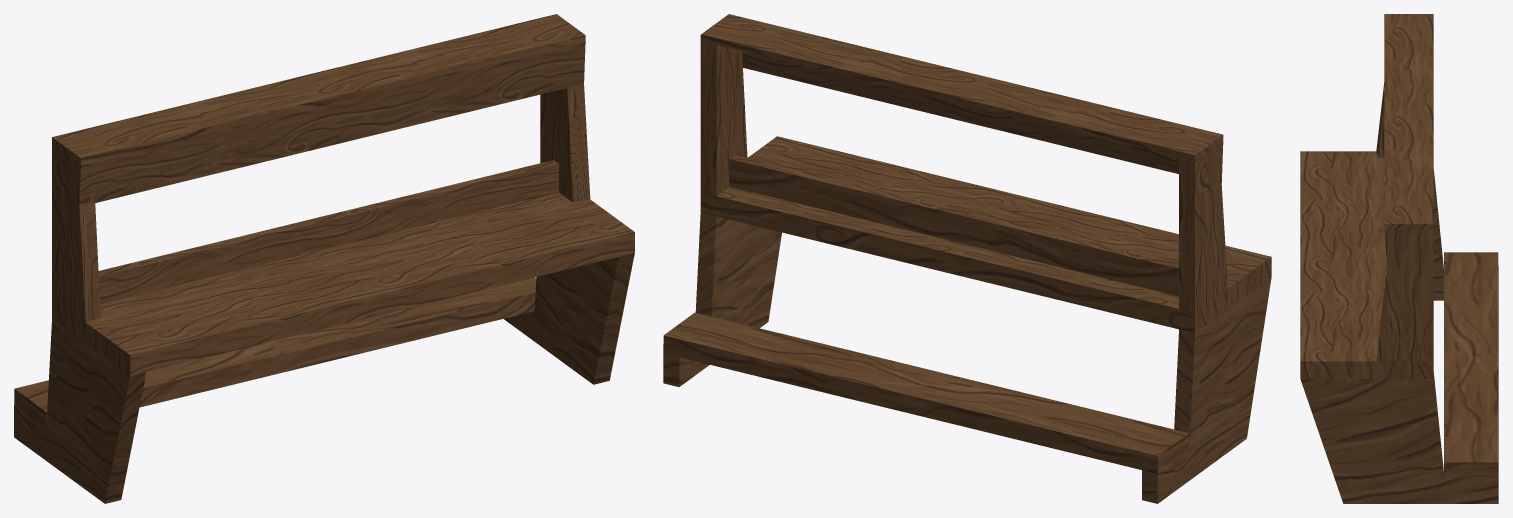
The model's file is ruraltown_chapelbench.fbx.
3 renders of one model, left to right at view 1: azimuth 30°, elevation 25°; view 2: azimuth 150°, elevation 25°; view 3: azimuth 270°, elevation 25°, orthographic. The views are drawn at different scales.
Parts seen in each view (by area): view 1: ruraltown_chapelbench; view 2: ruraltown_chapelbench; view 3: ruraltown_chapelbench.
Boxes of the visible parts, x1=… form: ruraltown_chapelbench: x1=14, y1=14, x2=634, y2=503; ruraltown_chapelbench: x1=663, y1=14, x2=1271, y2=503; ruraltown_chapelbench: x1=1300, y1=14, x2=1498, y2=503.
Size of the model in its own units: 2.05 by 1.28 by 0.8192.
